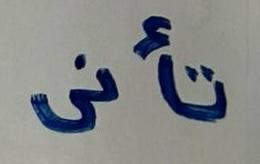hamza: (123, 4, 180, 130)
noon: (72, 39, 121, 94)
teh: (182, 41, 234, 143)
yeh: (27, 95, 107, 146)
